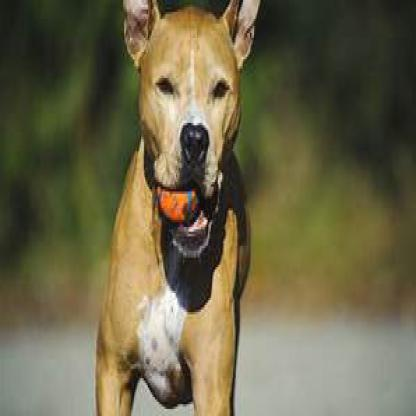dog: (96, 0, 266, 414)
